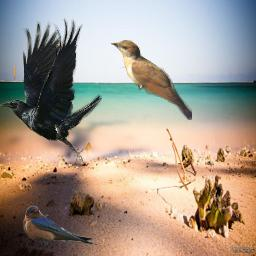Crow: (0, 17, 102, 165)
Cuckoo: (111, 40, 192, 120)
Swallow: (23, 206, 101, 246)
